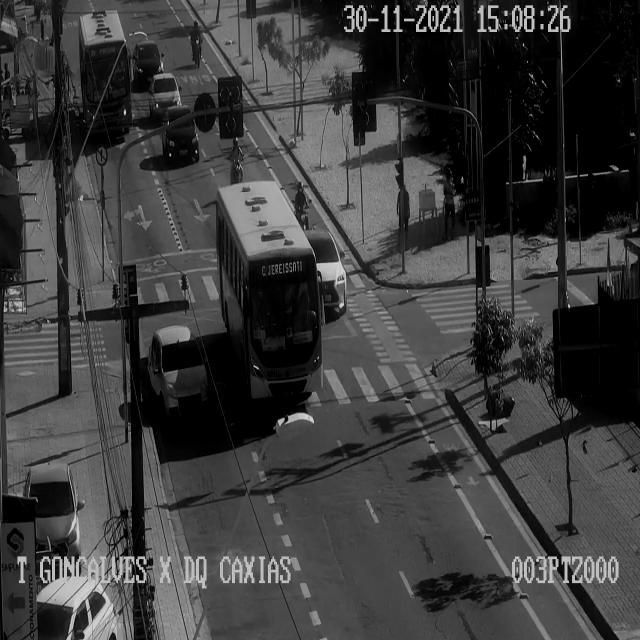Bus: (216, 180, 322, 398), (78, 10, 132, 132)
Car: (24, 463, 80, 573), (148, 324, 208, 418), (36, 576, 116, 639), (302, 229, 346, 312), (161, 105, 199, 160), (149, 72, 181, 117), (132, 40, 164, 83)
Motorcycle: (294, 181, 308, 234), (230, 136, 243, 186), (190, 19, 202, 66)
